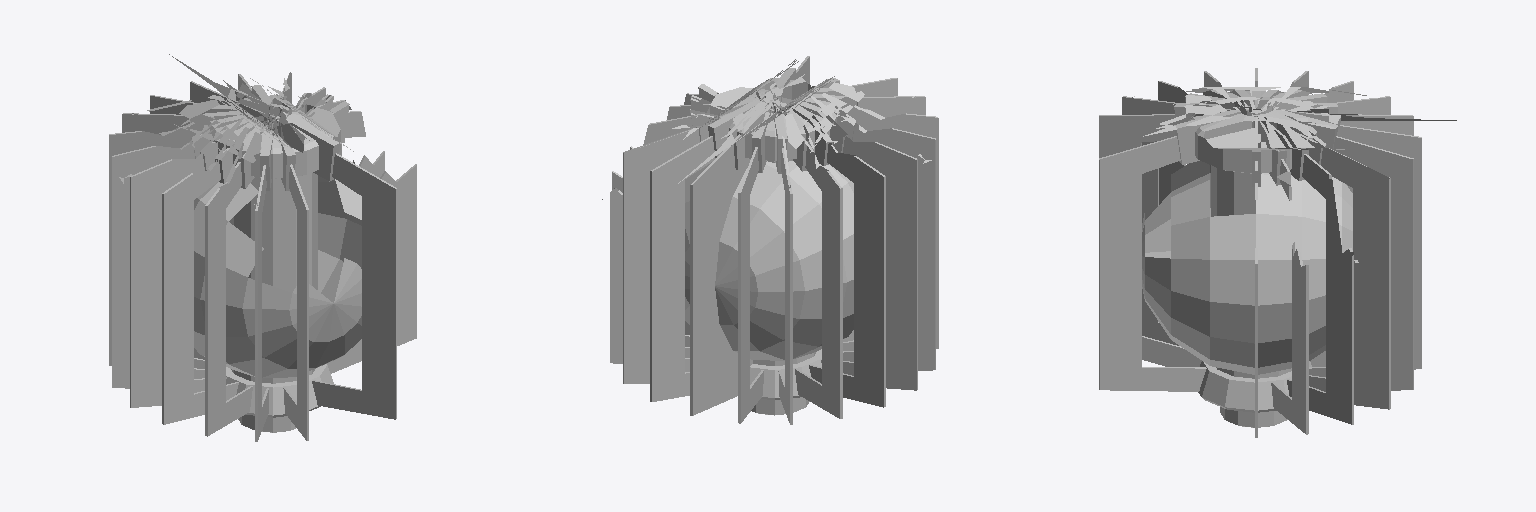
The model's file is prison model busted open.obj.
3 renders of one model, left to right at view 1: azimuth 30°, elevation 25°; view 2: azimuth 150°, elevation 25°; view 3: azimuth 270°, elevation 25°, orthographic.
Size of the model in its own units: 308 by 312 by 325.